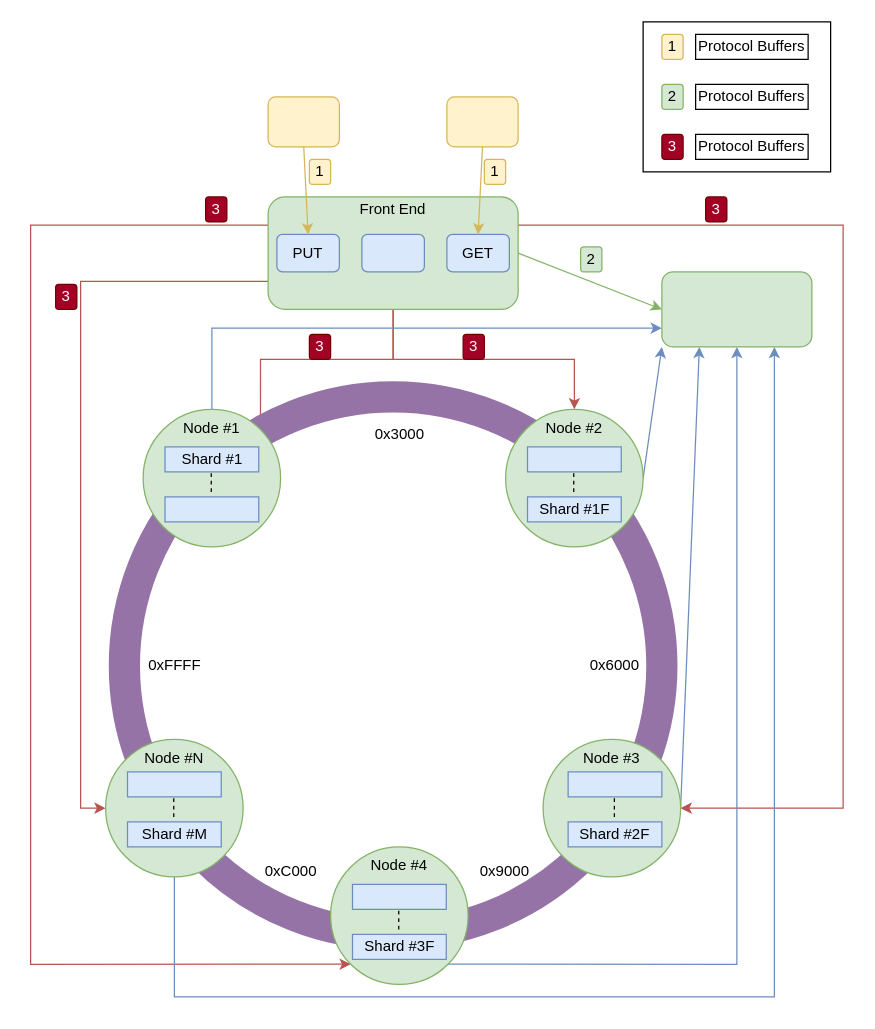
This 875x1029 diagram has some shape labels left out. Here are the shapes that lost their labels. From the top down, the centre of each, then its label:
At (x=303, y=121): "Client #1".
At (x=482, y=121): "Client #N".
At (x=392, y=252): "DELETE".
At (x=736, y=309): "etcd".
At (x=573, y=459): "Shard #10".
At (x=211, y=509): "Shard #F".
At (x=173, y=784): "Shard #N".
At (x=614, y=784): "Shard #20".
At (x=398, y=896): "Shard #30".
